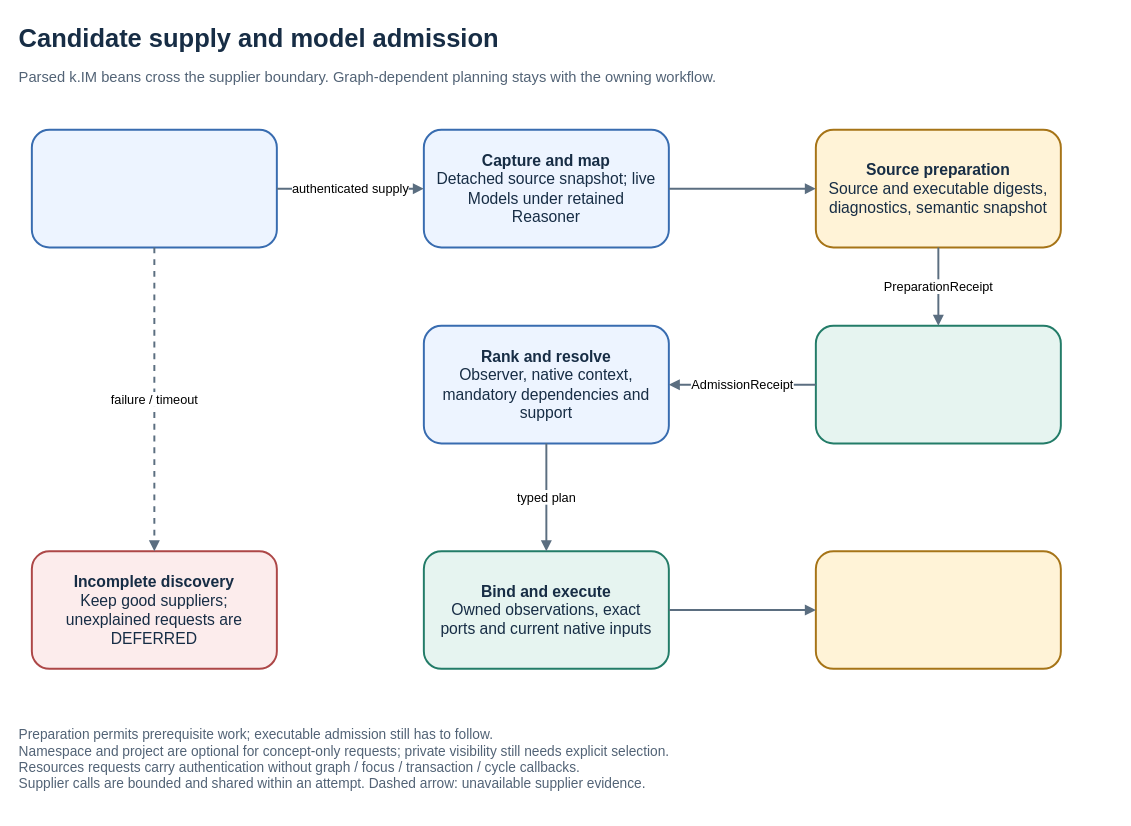
Image size: 1131x826. Some labels were removed from this diagram. Here are the shapes that lost their labels. From the top down, the centre of each, then its label:
[153,188]: Resources supplier READ permission, visibility, parsed namespace and model beans
[937,384]: Prepare and admit Resources, components, installed methods and obligations
[937,609]: Commit and accept Validate real work and native guards; publish atomically
